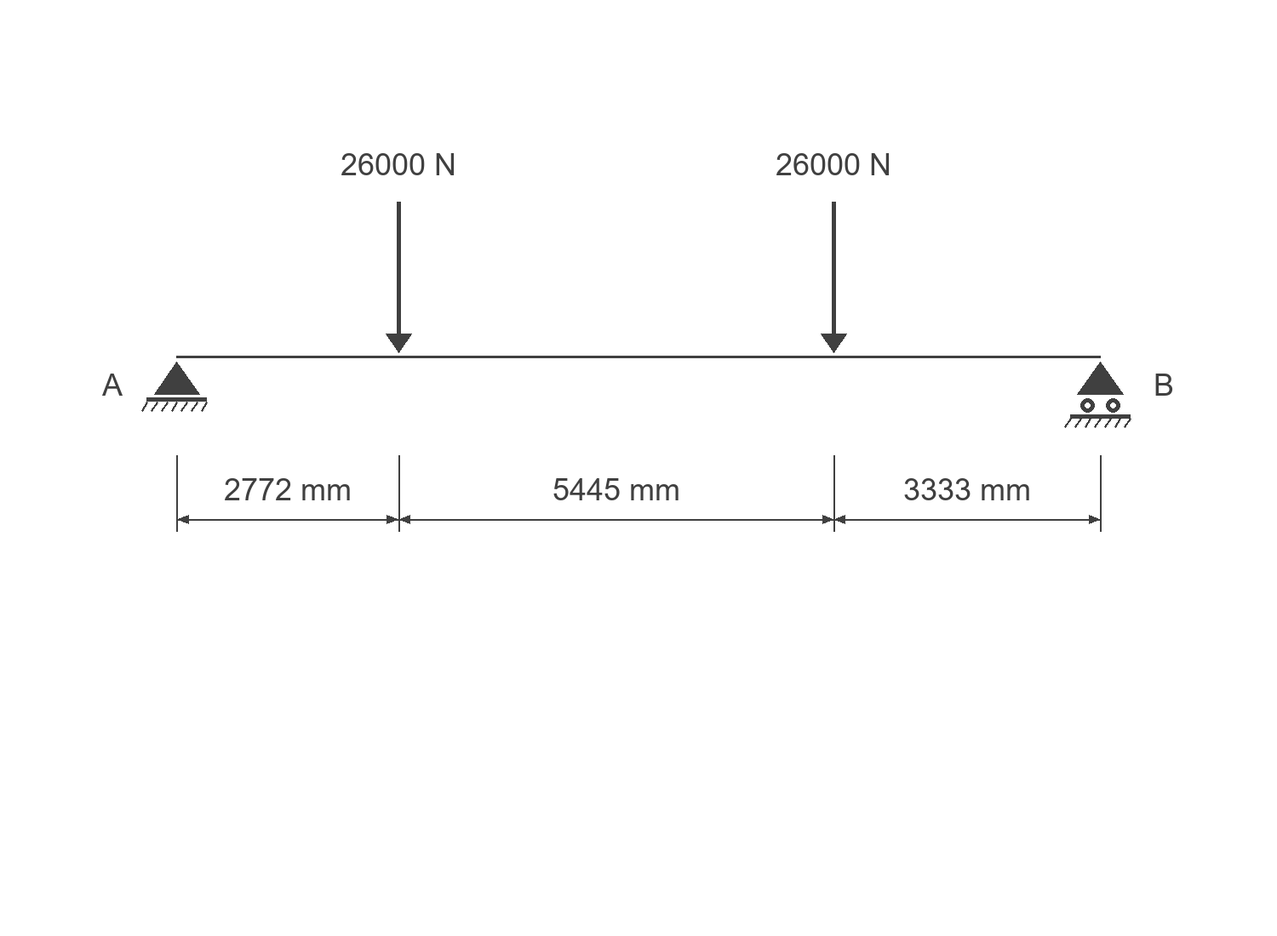pin_support: (141, 362, 208, 412)
point_load: (386, 202, 412, 353), (821, 202, 847, 353)
roller_support: (1064, 362, 1131, 428)
